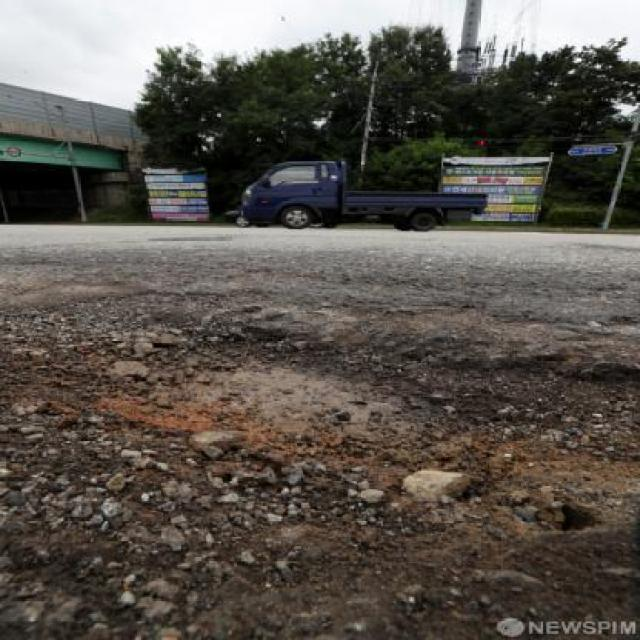Pothole: (96, 329, 464, 462)
